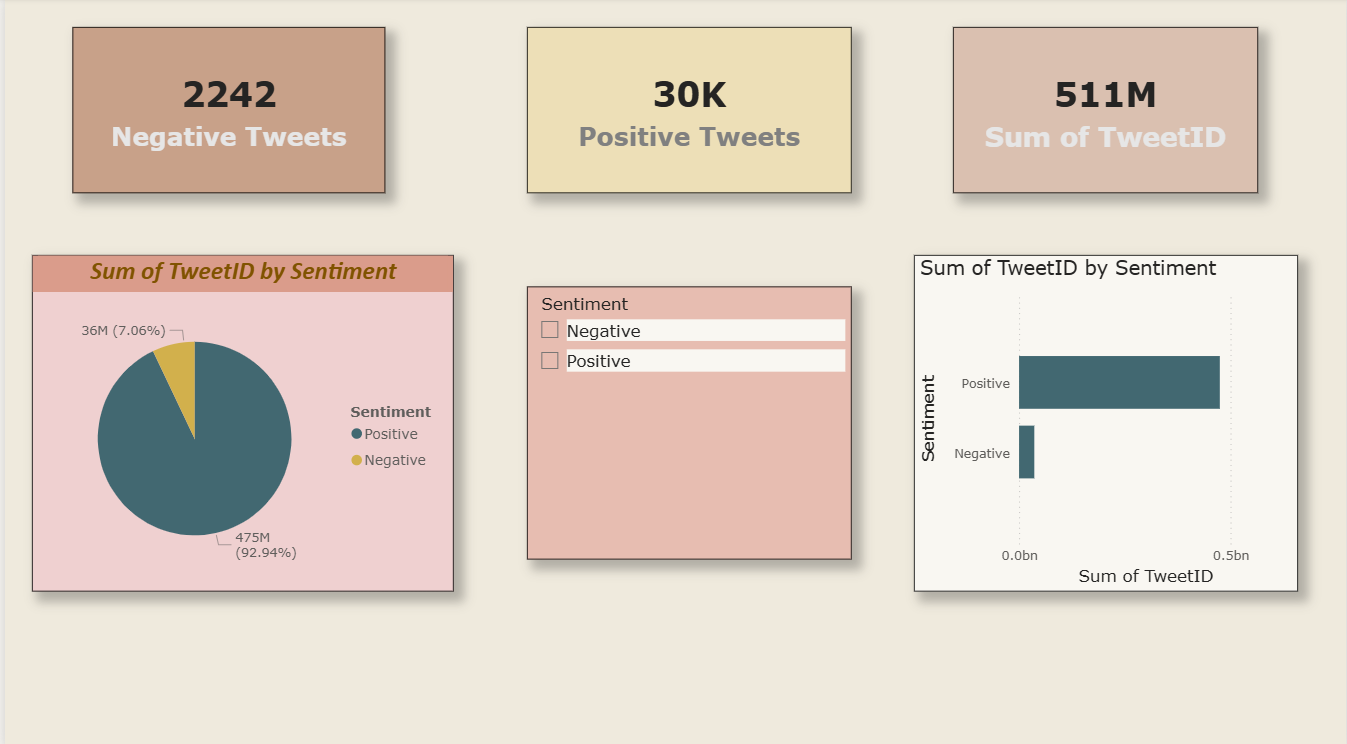

Layout of this report page (visuals, bound fields, positions):
{"tool":"powerbi","page":{"name":"Page 1","canvas":[1280,720],"ordinal":0},"visuals":[{"type":"card","fields":{"Values":["Sum(clean_twitter_data.TweetID)"]},"box":[905.2,28.3,291,158.7],"z":0},{"type":"pieChart","fields":{"Category":["clean_twitter_data.Sentiment"],"Y":["Sum(clean_twitter_data.TweetID)"]},"box":[26.5,245.7,402.5,321.3],"z":1000},{"type":"clusteredBarChart","fields":{"Category":["clean_twitter_data.Sentiment"],"Y":["Sum(clean_twitter_data.TweetID)"]},"box":[867.4,245.7,366.6,321.3],"z":2000},{"type":"slicer","fields":{"Values":["clean_twitter_data.Sentiment"]},"box":[498.9,275.9,309.9,260.8],"z":3000},{"type":"card","fields":{"Values":["clean_twitter_data.Negative Tweets"]},"box":[64.3,28.3,298.6,158.7],"z":3001},{"type":"card","fields":{"Values":["clean_twitter_data.Positive Tweets"]},"box":[498.9,28.3,309.9,158.7],"z":3002}]}

Visuals, with their boxes in screenshot pixels (x1, y1, x2, y2), scaled from the page's 1280x720 canvas onto the 1347x744 screenshot:
card - Sum(clean_twitter_data.TweetID): box(953, 29, 1259, 193)
pieChart - clean_twitter_data.Sentiment x Sum(clean_twitter_data.TweetID): box(28, 254, 451, 586)
clusteredBarChart - clean_twitter_data.Sentiment x Sum(clean_twitter_data.TweetID): box(913, 254, 1299, 586)
slicer - clean_twitter_data.Sentiment: box(525, 285, 851, 555)
card - clean_twitter_data.Negative Tweets: box(68, 29, 382, 193)
card - clean_twitter_data.Positive Tweets: box(525, 29, 851, 193)
